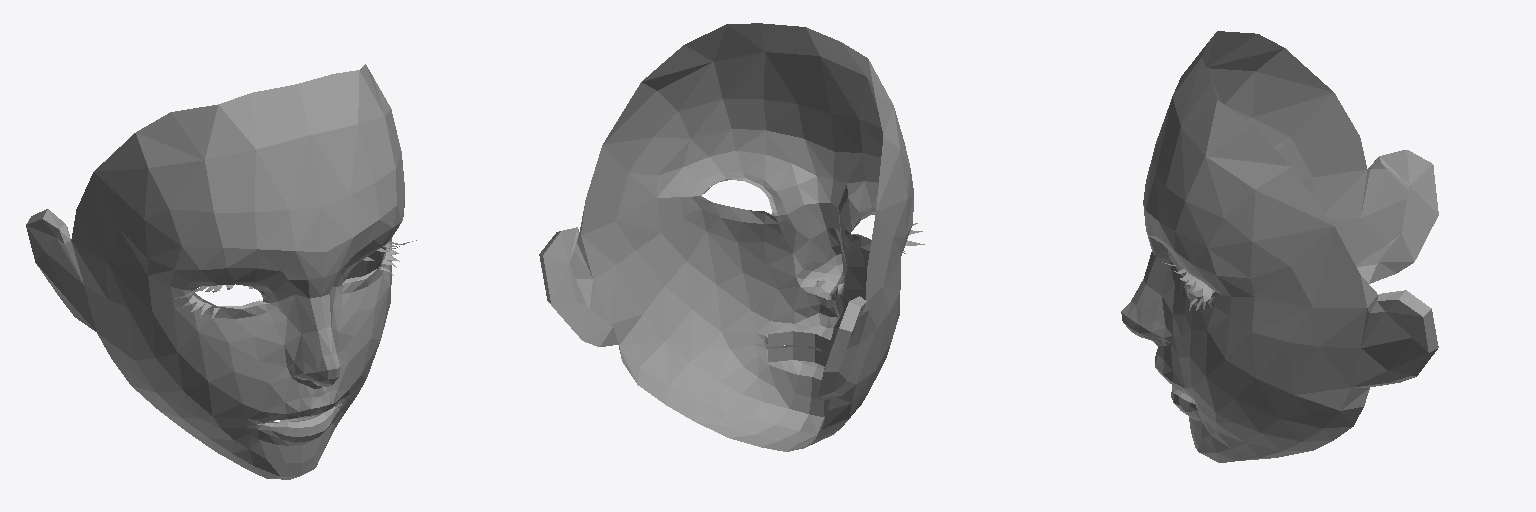
File: womanFaceBoneLess.obj
The picture shows the model from 3 angles: view 1: azimuth 30°, elevation 25°; view 2: azimuth 150°, elevation 25°; view 3: azimuth 270°, elevation 25°; orthographic projection.
Parts seen in each view (by area): view 1: face; view 2: face; view 3: face.
Part boxes in pixels (x1,y1,x2,y2): face: (26,64,416,479); face: (539,23,924,451); face: (1121,31,1438,462).
Size of the model in its own units: 0.0311 by 0.0378 by 0.0272.